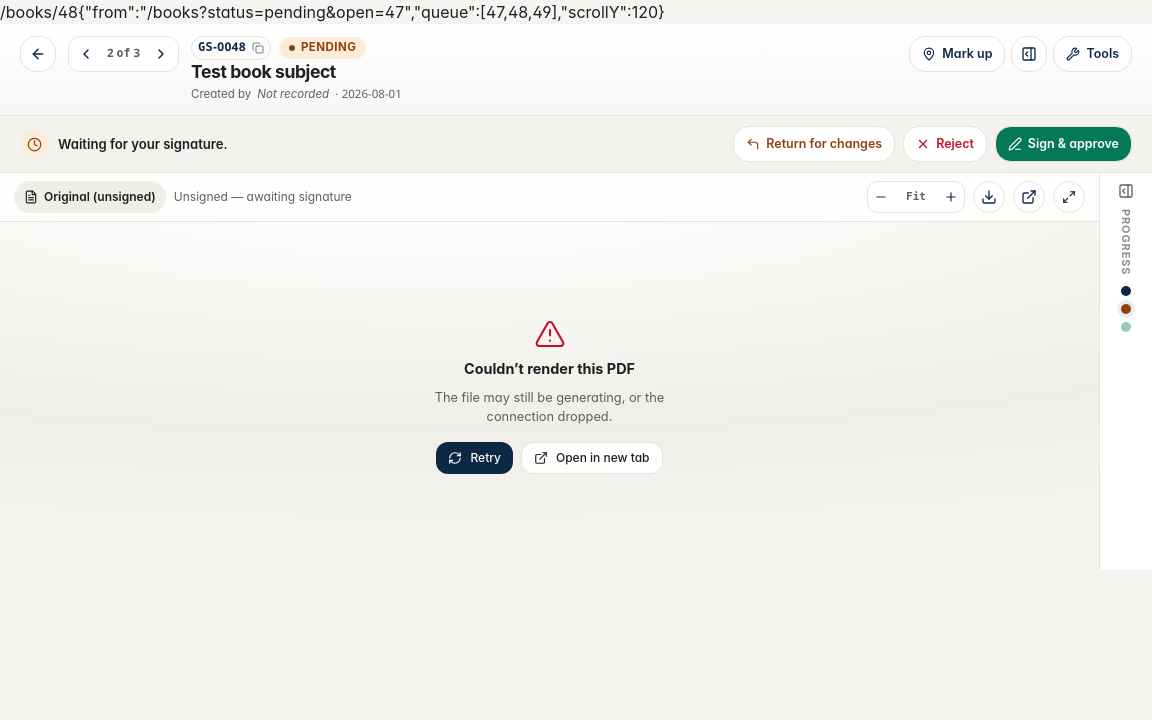
BookRecordPage — nav state survives in-record navigation › "Review next" carries the queue context to the next record
Click the button "Sign & approve". click: (1063, 144)
box: [995,126,1132,162]
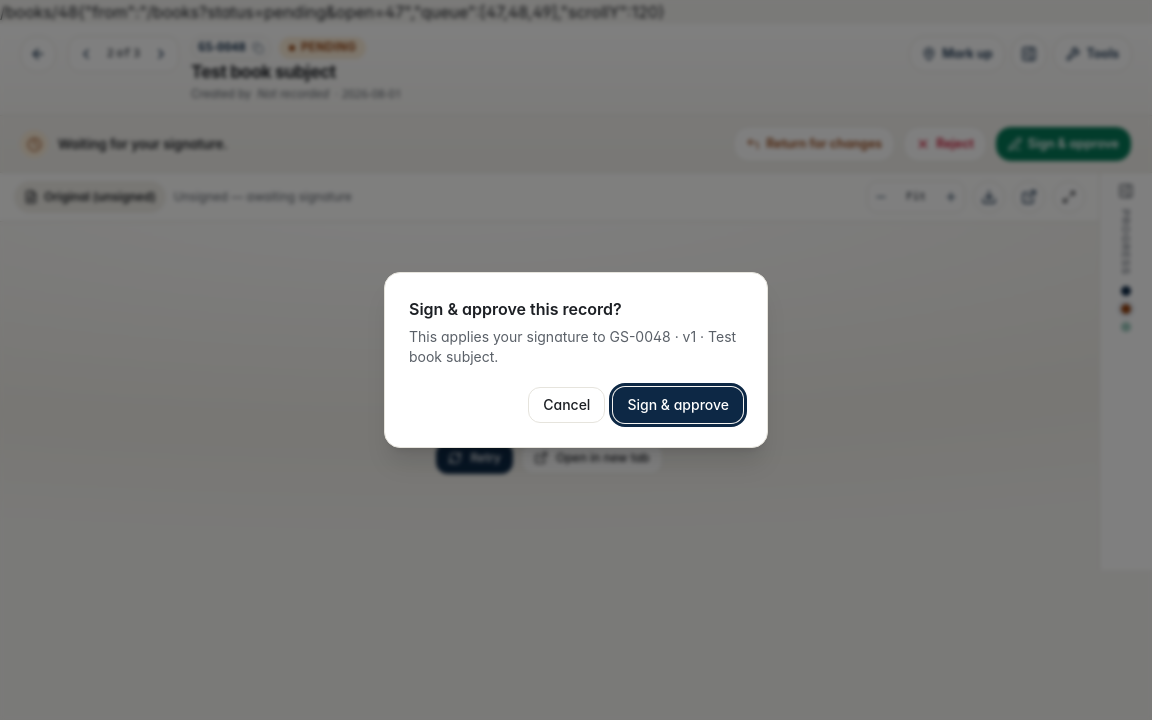
Expected: the heading "Sign & approve this record?" is shown, [409,299,622,319]
Click the button "Sign & approve". click: (678, 405)
box: [613,387,743,423]
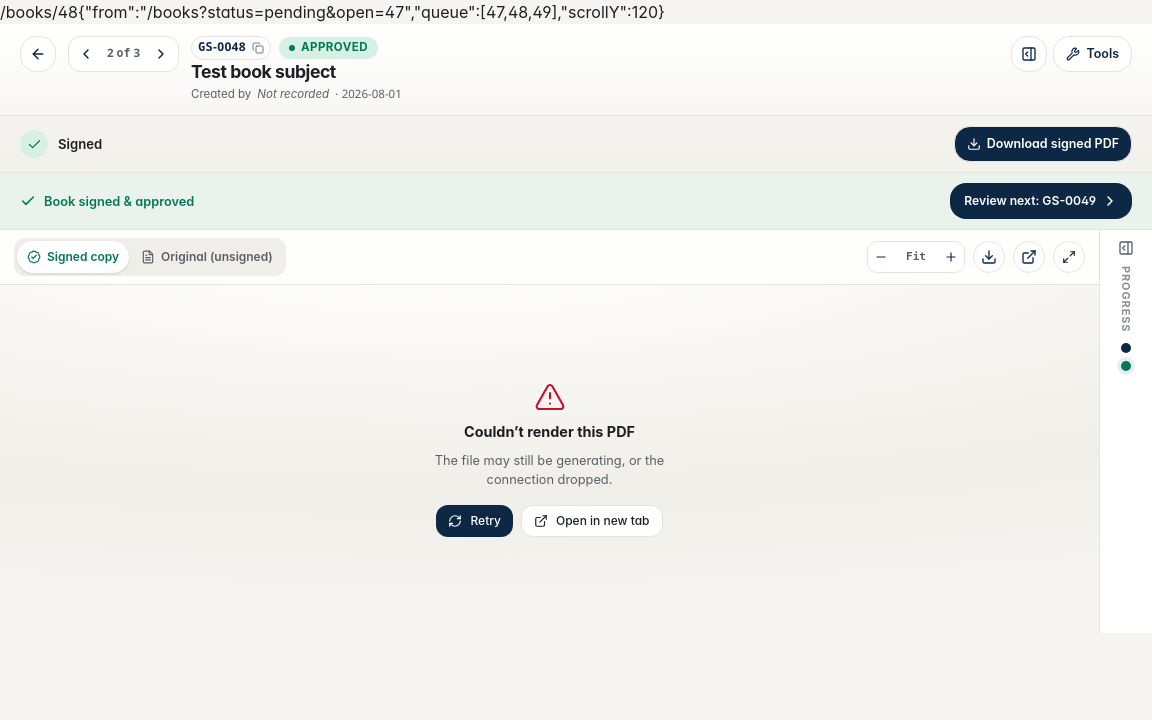
Click the button "Review next: GS-0049". click: (1041, 202)
box: [950,184,1132,220]
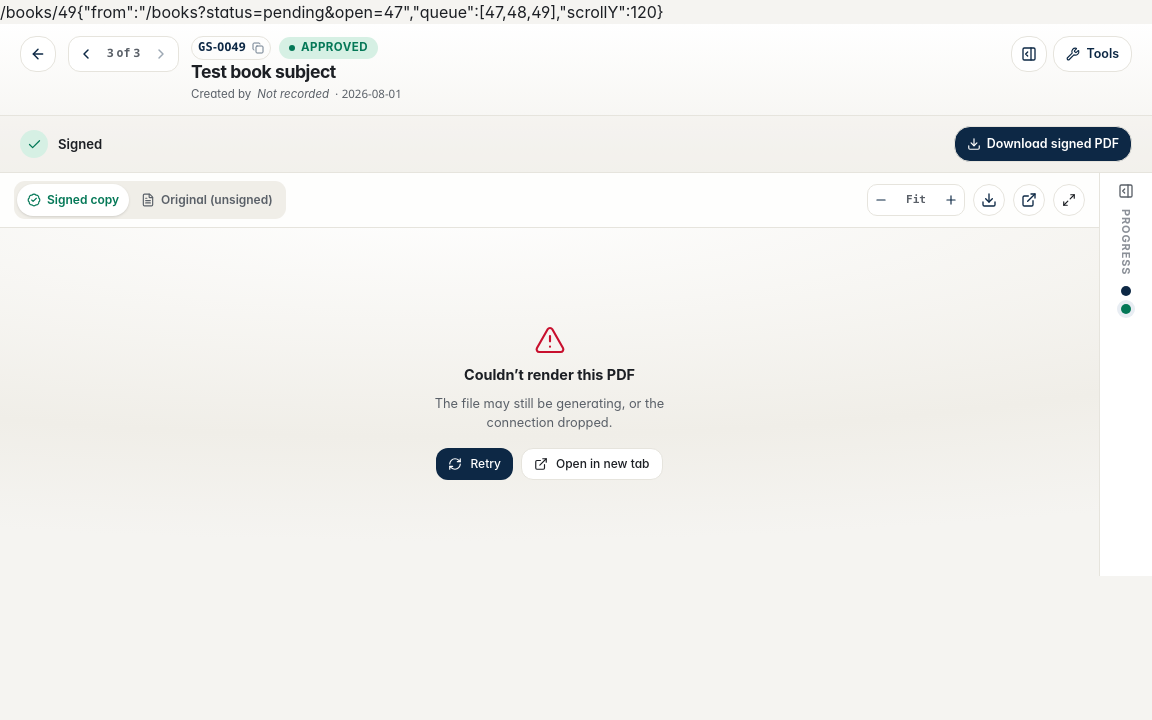
Expected: the text with test id "loc" reads "/books/49", [0,2,77,22]
